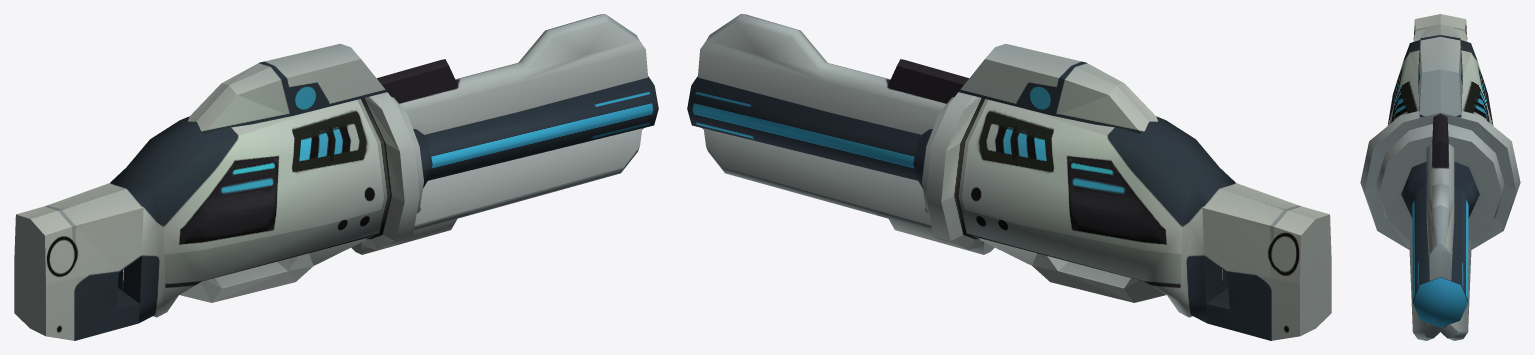
Rendered from EleGun.FBX.
3 views of the same model, side by side, from view 1: azimuth 30°, elevation 25°; view 2: azimuth 150°, elevation 25°; view 3: azimuth 270°, elevation 25° (orthographic). The views are drawn at different scales.
Parts seen in each view (by area): view 1: EleGun; view 2: EleGun; view 3: EleGun.
Part boxes in pixels (bbox=[...]): EleGun: bbox=[14, 14, 658, 340]; EleGun: bbox=[687, 14, 1331, 340]; EleGun: bbox=[1360, 14, 1520, 340].
Bounding box in the file's own units: 172 × 58.06 × 43.98.
